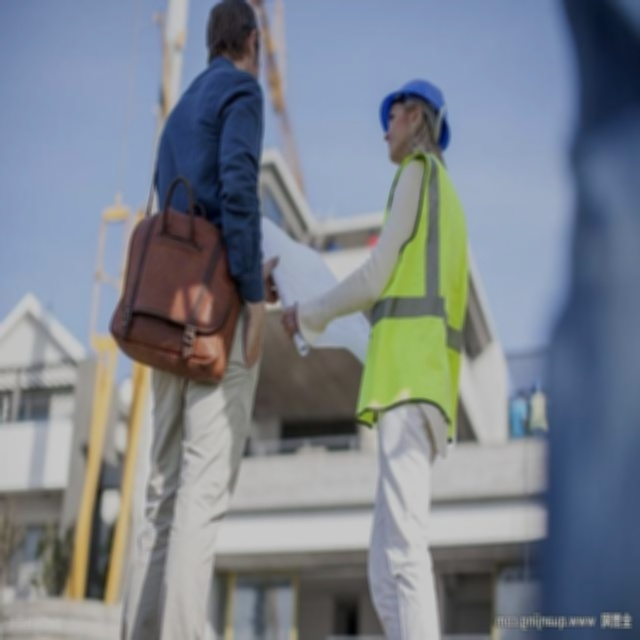Con_Casco: (379, 76, 452, 156)
Con_Chaleco: (352, 160, 469, 437)
Sin_Casco_Mascarrilla: (203, 0, 263, 66)
